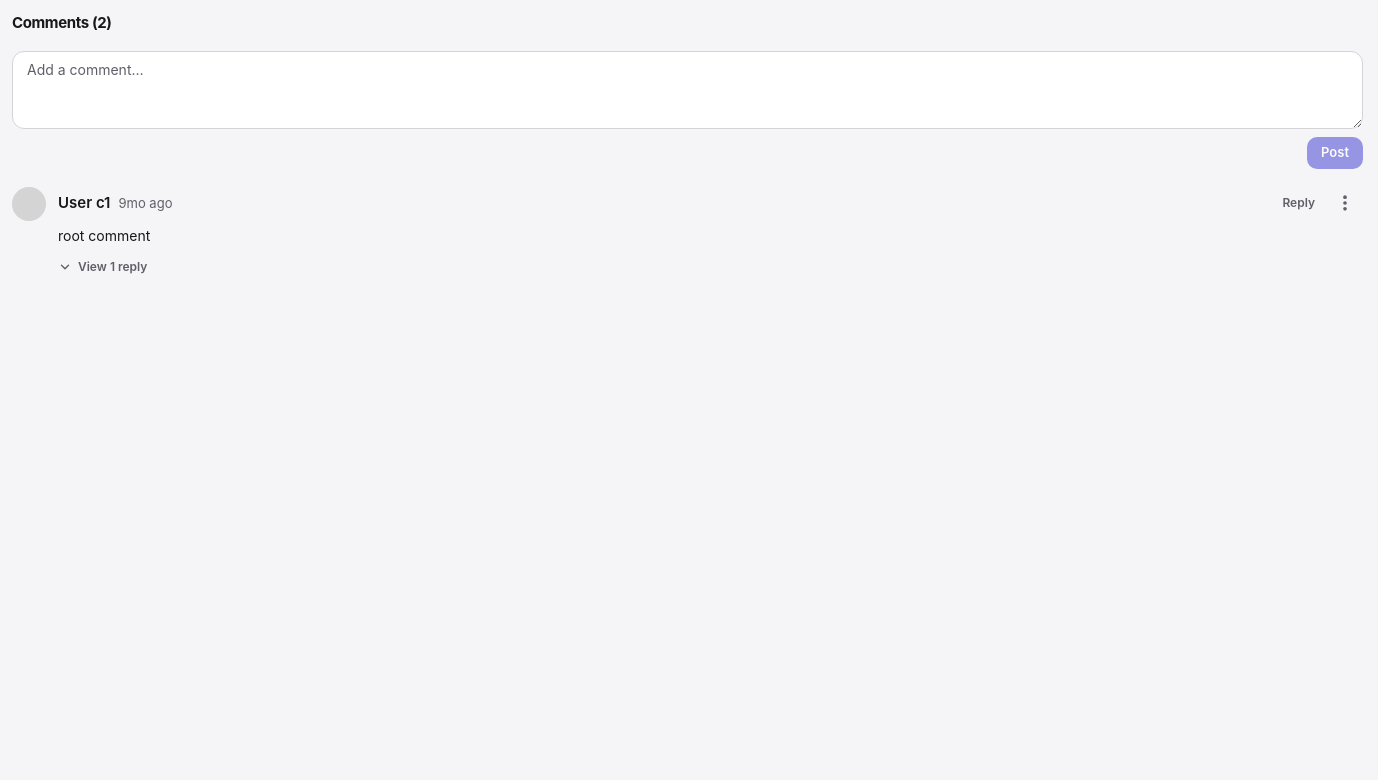
Test: CommentsSection creator pin + heart › offers no Pin on a reply, but still allows Heart there
Click the button "View 1 reply".
click(103, 267)  # box [58,259,147,275]
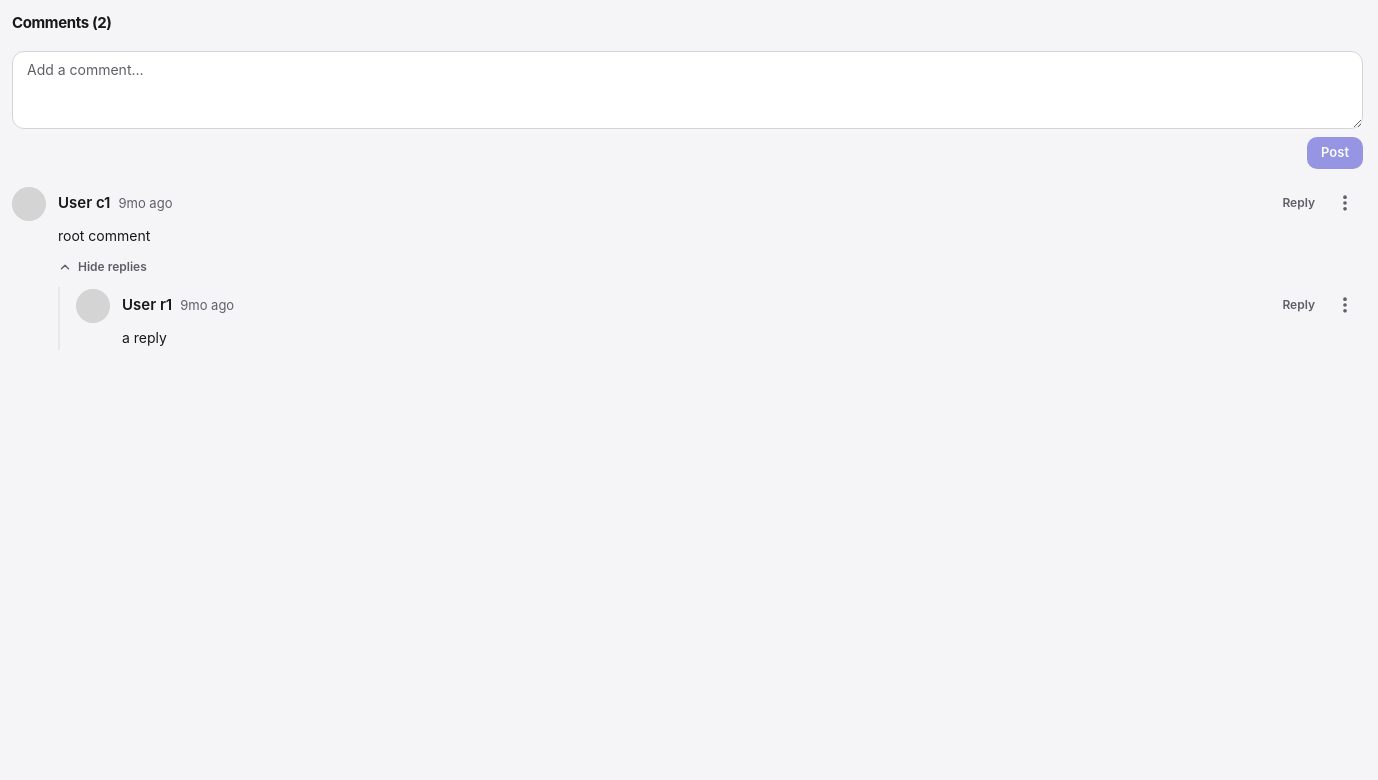
Click the button named "Comment actions" in the row of "User r1".
click(1345, 305)  # box [1327,287,1363,323]
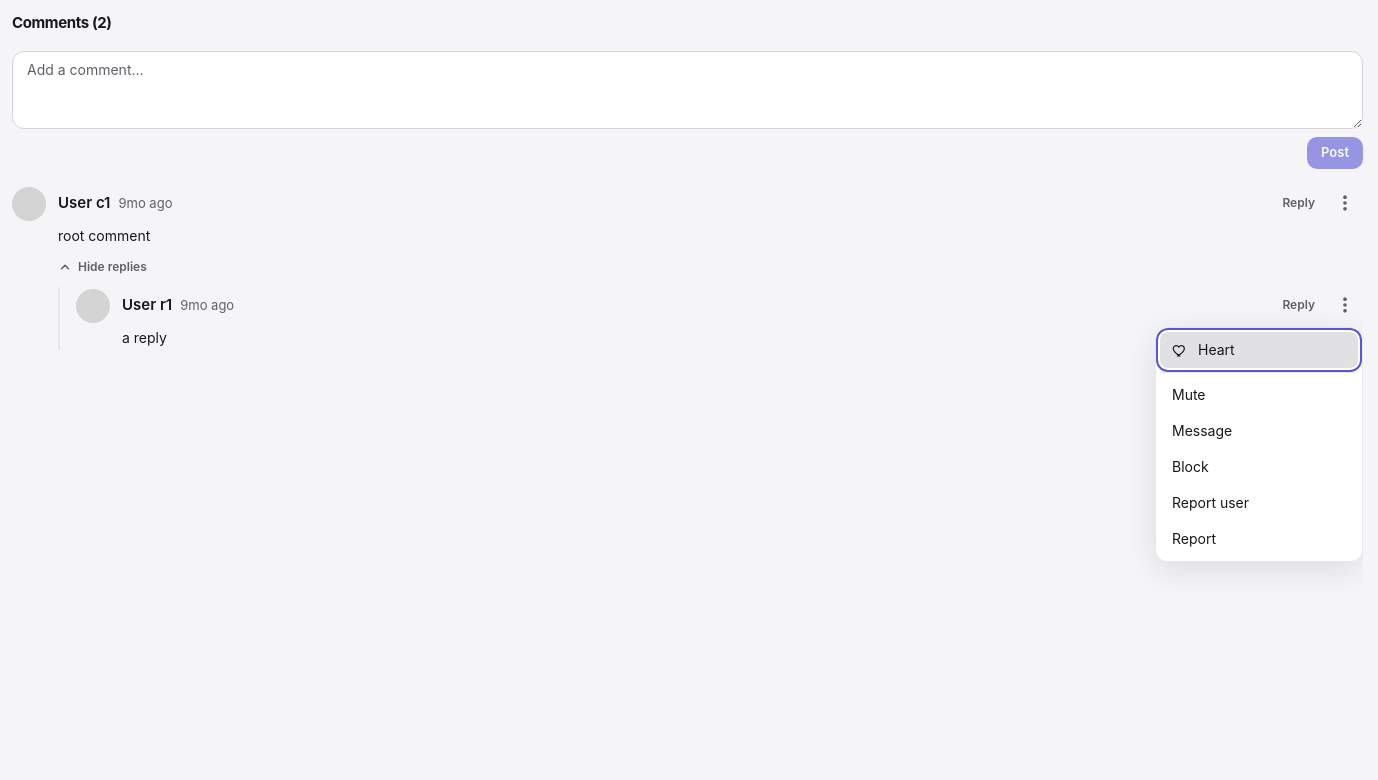
Check: the menu item "Heart" is shown, box [1160,332,1358,368]
